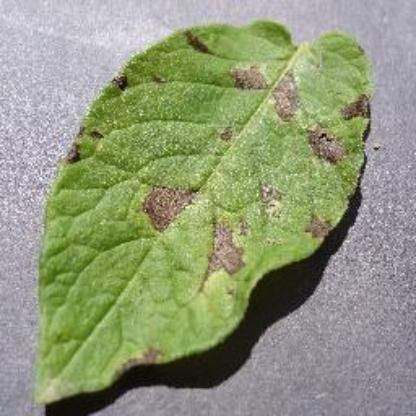Early-Blight: (33, 8, 399, 416)
